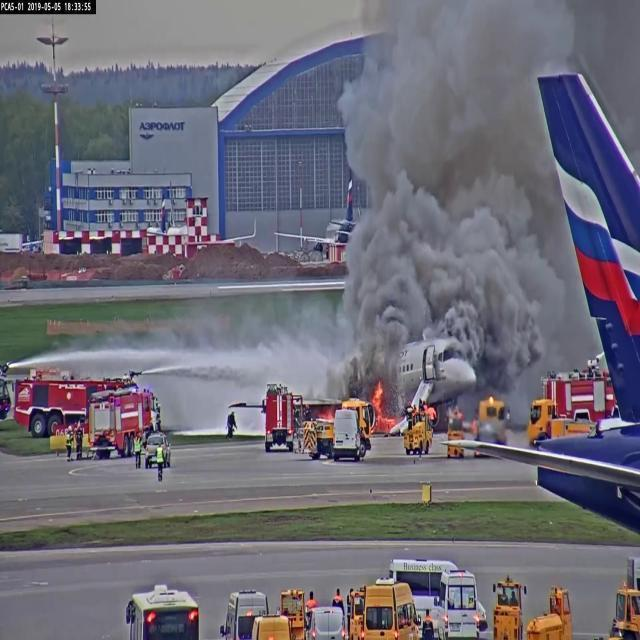Smoke: (379, 8, 522, 321)
